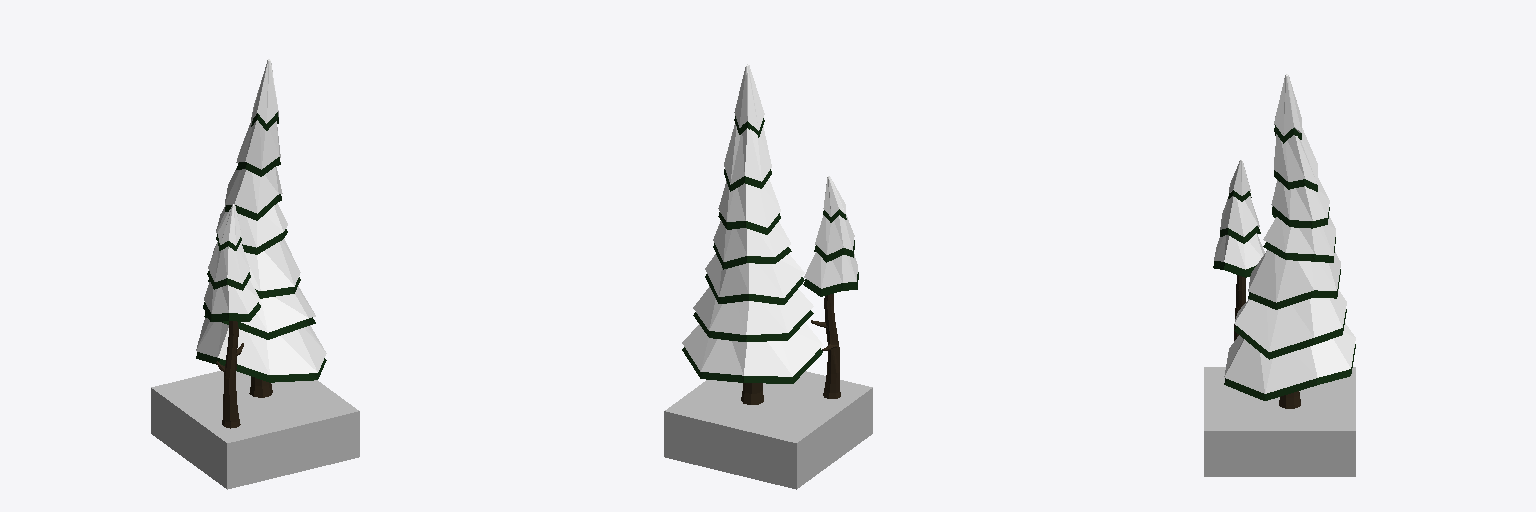
Rendered from Tile_Tree_6.obj.
3 views of the same model, side by side, from view 1: azimuth 30°, elevation 25°; view 2: azimuth 150°, elevation 25°; view 3: azimuth 270°, elevation 25° (orthographic).
Parts seen in each view (by area): view 1: Cube, Cylinder.003_Cylinder.002, Cylinder.000_Cylinder.004, Cylinder.002_Cylinder.001, Cylinder_Cylinder.005, Cylinder.001_Cylinder.000; view 2: Cylinder.003_Cylinder.002, Cube, Cylinder.002_Cylinder.001, Cylinder.000_Cylinder.004, Cylinder_Cylinder.005, Cylinder.001_Cylinder.000; view 3: Cylinder.003_Cylinder.002, Cube, Cylinder.002_Cylinder.001, Cylinder.000_Cylinder.004, Cylinder.001_Cylinder.000.
Boxes of the visible parts, box(x1,y1,x2,y2) form: Cube: box(151, 371, 359, 489); Cylinder.003_Cylinder.002: box(196, 59, 326, 374); Cylinder.000_Cylinder.004: box(204, 204, 259, 313); Cylinder.002_Cylinder.001: box(196, 112, 326, 382); Cylinder_Cylinder.005: box(216, 321, 243, 428); Cylinder.001_Cylinder.000: box(203, 237, 260, 321); Cylinder.003_Cylinder.002: box(682, 64, 822, 376); Cube: box(664, 371, 872, 489); Cylinder.002_Cylinder.001: box(682, 116, 822, 383); Cylinder.000_Cylinder.004: box(804, 176, 857, 288); Cylinder_Cylinder.005: box(811, 294, 840, 398); Cylinder.001_Cylinder.000: box(803, 209, 858, 296); Cylinder.003_Cylinder.002: box(1224, 74, 1355, 393); Cube: box(1204, 367, 1355, 476); Cylinder.002_Cylinder.001: box(1224, 125, 1355, 400); Cylinder.000_Cylinder.004: box(1214, 160, 1264, 269); Cylinder.001_Cylinder.000: box(1213, 190, 1260, 277).
Size of the model in its own units: 3.05 by 8.2 by 3.